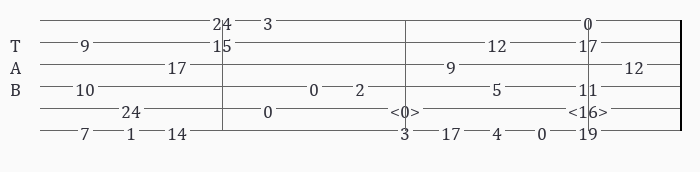0: (263, 100, 277, 116), (309, 78, 323, 94), (537, 122, 551, 138), (583, 12, 597, 28)
1: (126, 122, 140, 138)
10: (75, 78, 99, 94)
11: (578, 78, 602, 94)
12: (487, 34, 511, 50), (624, 56, 648, 72)
14: (167, 122, 191, 138)
15: (212, 34, 236, 51)
17: (167, 56, 191, 73), (441, 122, 465, 139), (578, 34, 602, 51)
19: (578, 122, 602, 138)
2: (355, 78, 369, 94)
24: (121, 100, 145, 116), (212, 12, 236, 28)
3: (263, 12, 277, 28), (400, 122, 414, 138)
4: (492, 122, 506, 138)
5: (492, 78, 506, 95)
7: (80, 122, 94, 139)
9: (80, 34, 94, 50), (446, 56, 460, 72)
harmonic: (568, 100, 612, 116), (390, 100, 424, 116)
